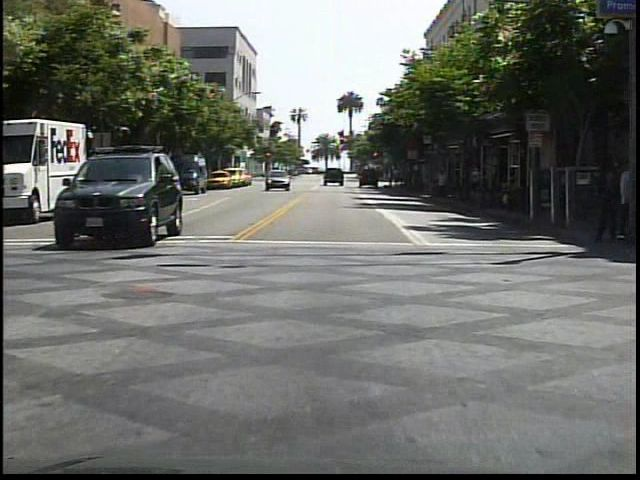person: (587, 152, 622, 244)
